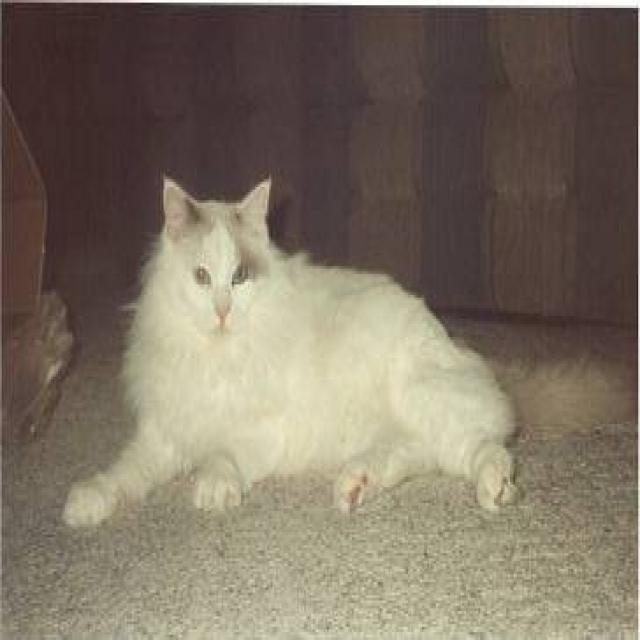cat: (62, 171, 522, 527)
